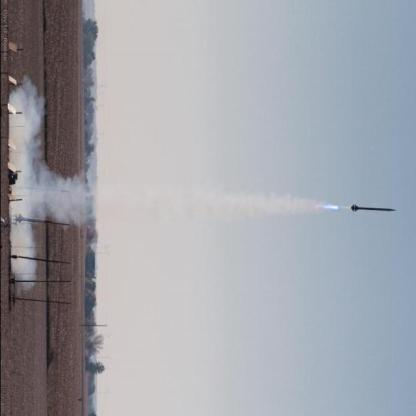MIL_TBM: (348, 203, 398, 214)
